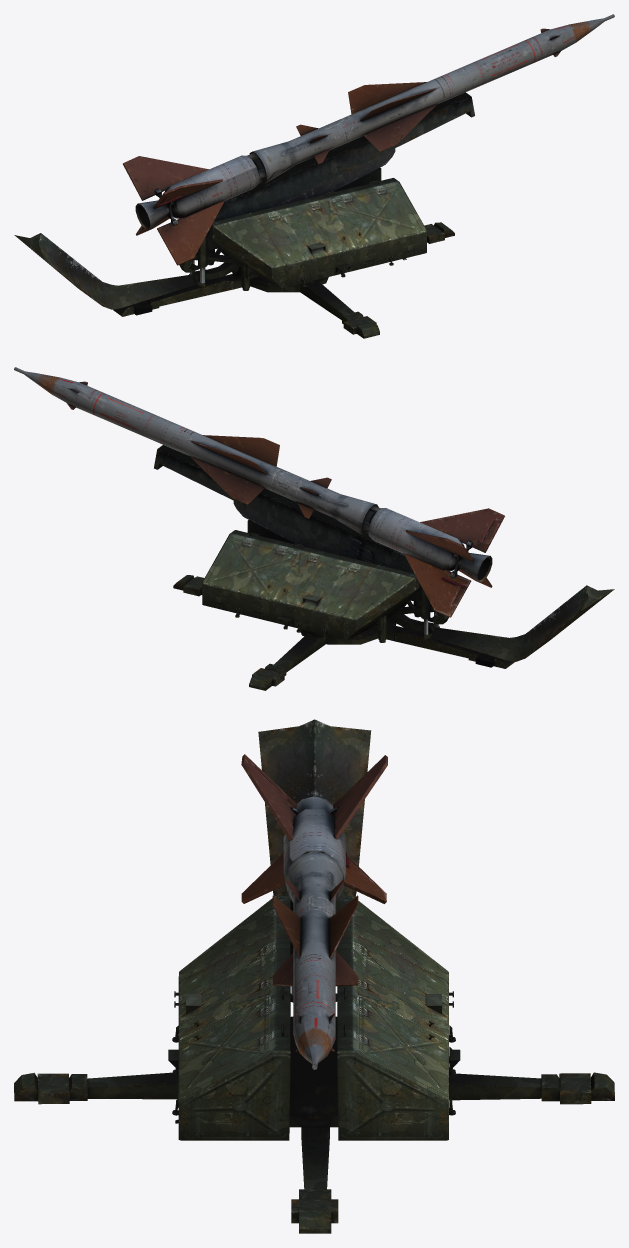
3 renders of one model, top to bottom at view 1: azimuth 30°, elevation 25°; view 2: azimuth 150°, elevation 25°; view 3: azimuth 270°, elevation 25°, orthographic. The views are drawn at different scales.
Parts seen in each view (by area): view 1: SM_SA2; view 2: SM_SA2; view 3: SM_SA2.
Boxes of the visible parts, x1,y1,x2,y2 form: SM_SA2: [14, 14, 614, 338]; SM_SA2: [14, 367, 614, 690]; SM_SA2: [14, 719, 614, 1233].
Bounding box in the file's own units: 16.84 × 4.9 × 8.71.
2 materials, 2 textured.
